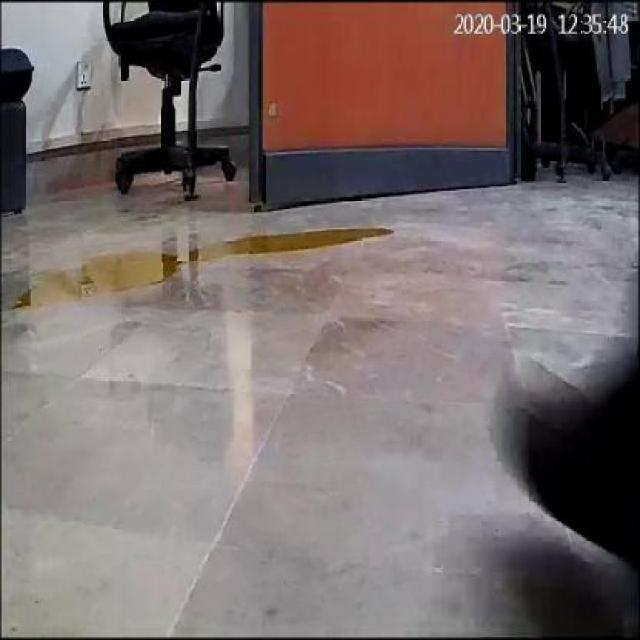spill: (19, 222, 402, 306)
